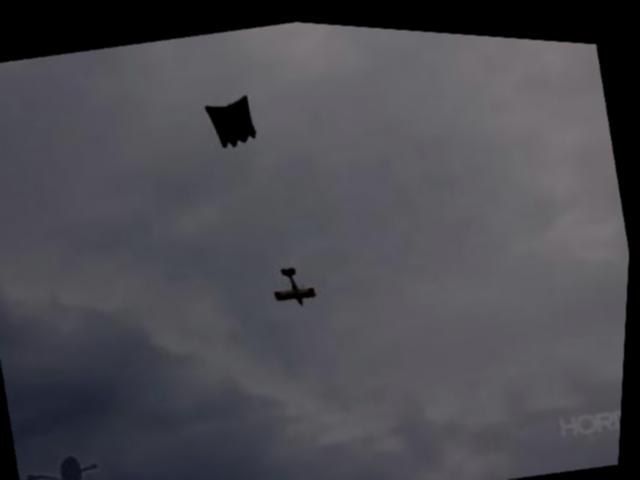uav: (267, 252, 325, 311)
